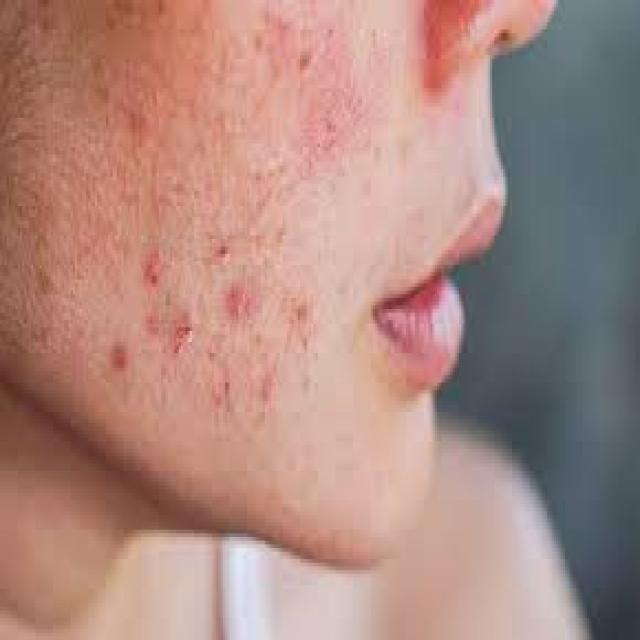Rosacea: (114, 14, 356, 409), (424, 0, 484, 82)
